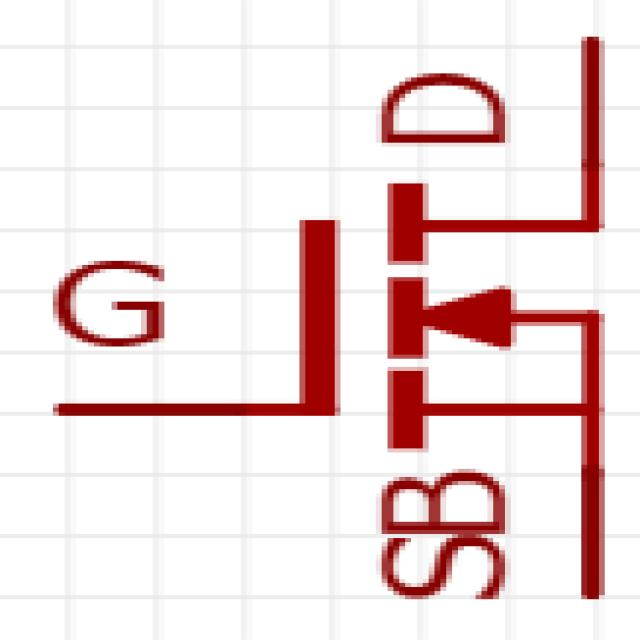nmos: (37, 20, 624, 619)
